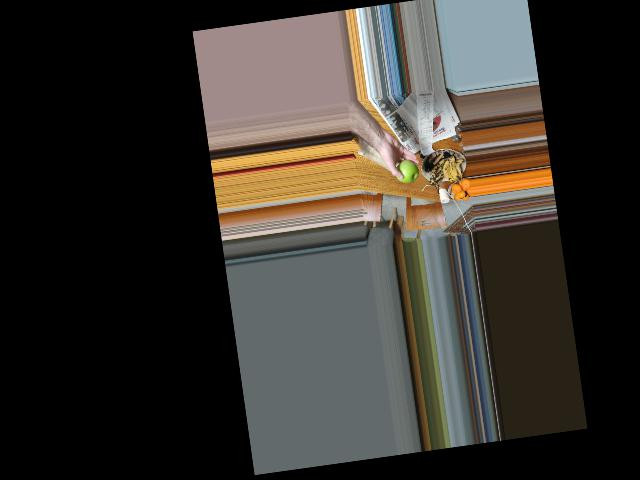apple: (392, 157, 419, 185)
